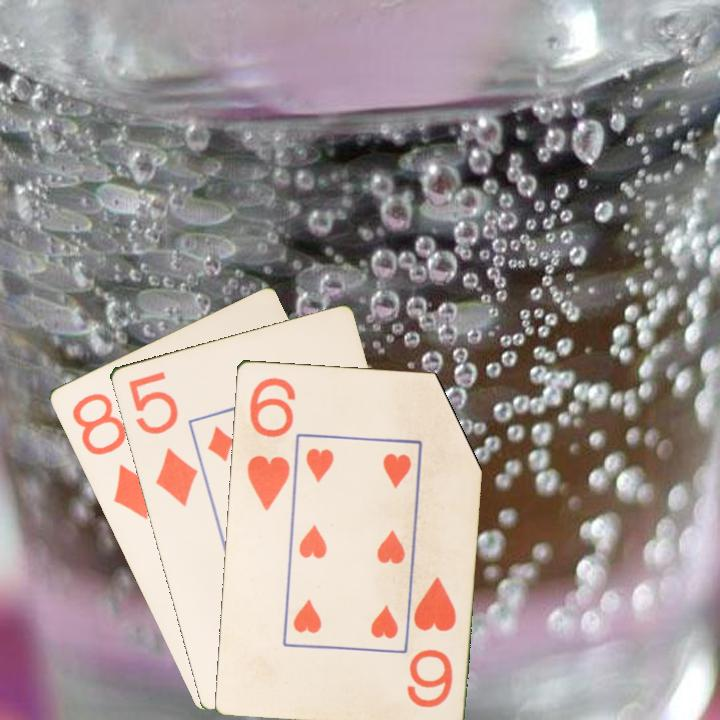5d: (124, 367, 200, 510)
6h: (240, 373, 297, 513), (404, 573, 459, 711)
8d: (68, 389, 156, 523)
